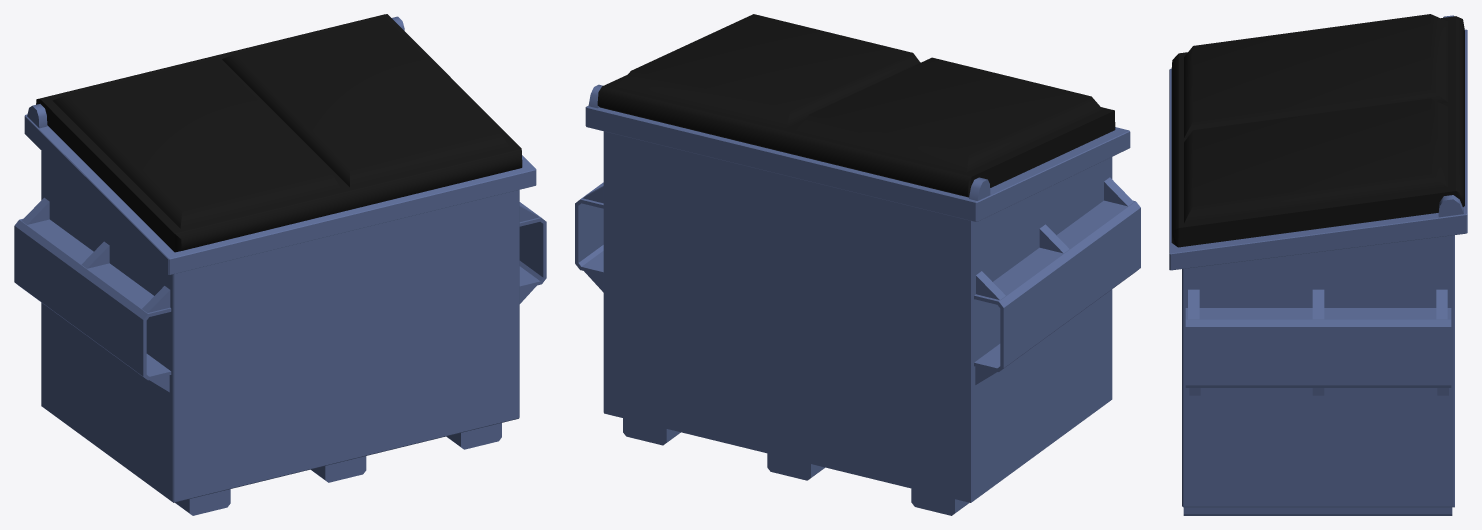
File: Dumpster_Blue_01.fbx
3 renders of one model, left to right at view 1: azimuth 30°, elevation 25°; view 2: azimuth 150°, elevation 25°; view 3: azimuth 270°, elevation 25°, orthographic. The views are drawn at different scales.
Visible parts, largest first — view 1: polySurface20; view 2: polySurface20; view 3: polySurface20.
Part boxes in pixels (box(x1,y1,x2,y2)): polySurface20: box(14, 14, 546, 515); polySurface20: box(575, 14, 1140, 515); polySurface20: box(1169, 14, 1467, 515).
Bounding box in the file's own units: 168 × 133 × 104.
